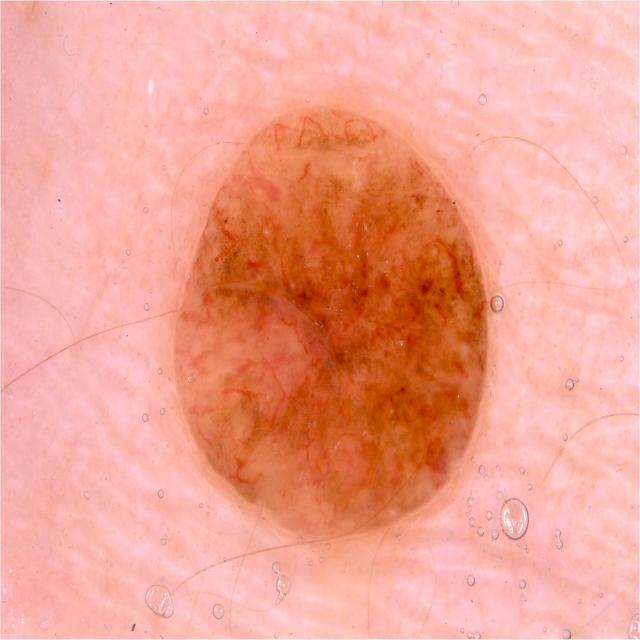Benign: (168, 102, 491, 549)
